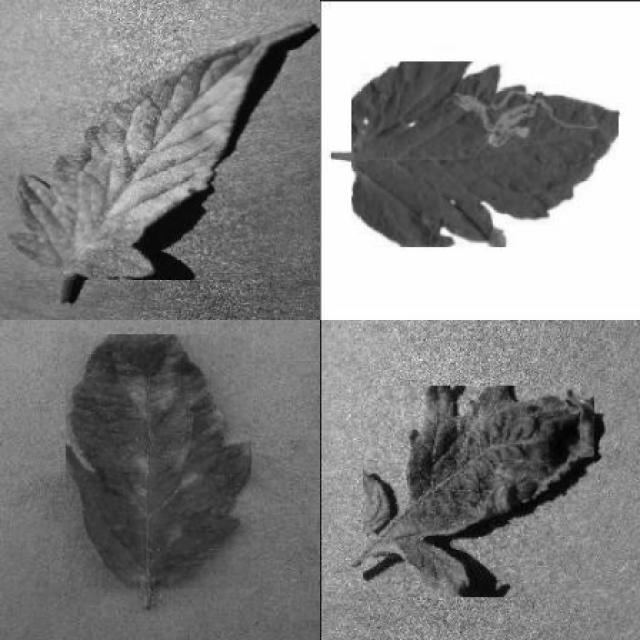Leaf Miner: (352, 62, 618, 248)
Leaf Mold: (9, 20, 311, 280), (65, 334, 252, 589)
Mosaic Virus: (362, 386, 594, 598)
